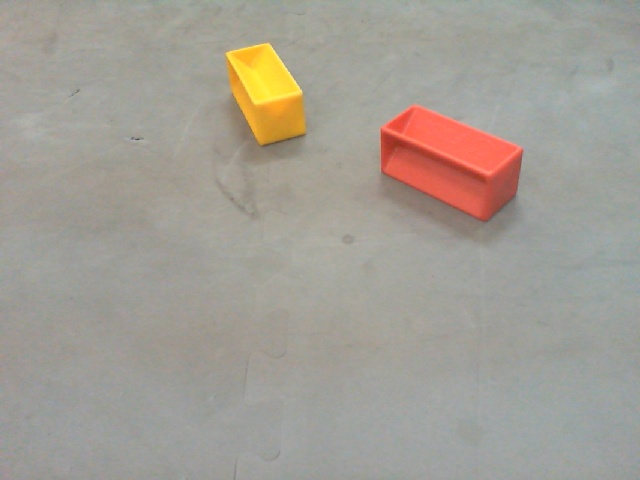RedSample: (379, 102, 526, 220)
YellowSample: (224, 43, 309, 147)
